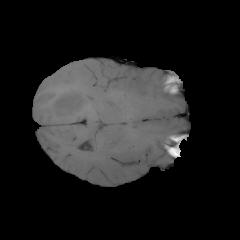glioma: (49, 86, 93, 120)
